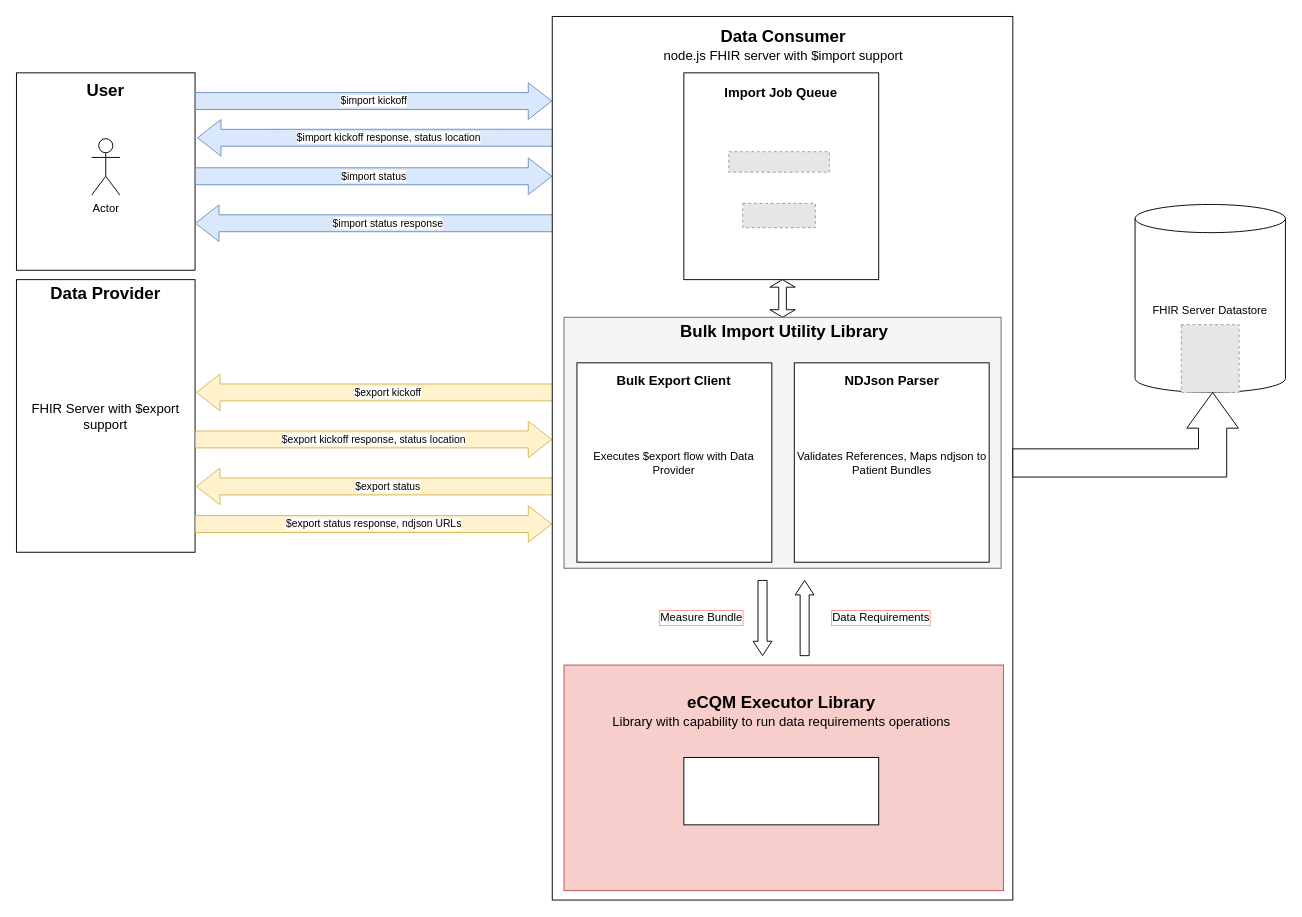
The diagram is 1302 pixels wide and 917 high, and some of its shapes have lost their labels. Grey dashed boxes stand in for pictures. Here are the shapes that lost their labels. From the top down, the centre of each, then its label:
point 1125,434: Upload Bundles
point 781,791: FQM Execution
